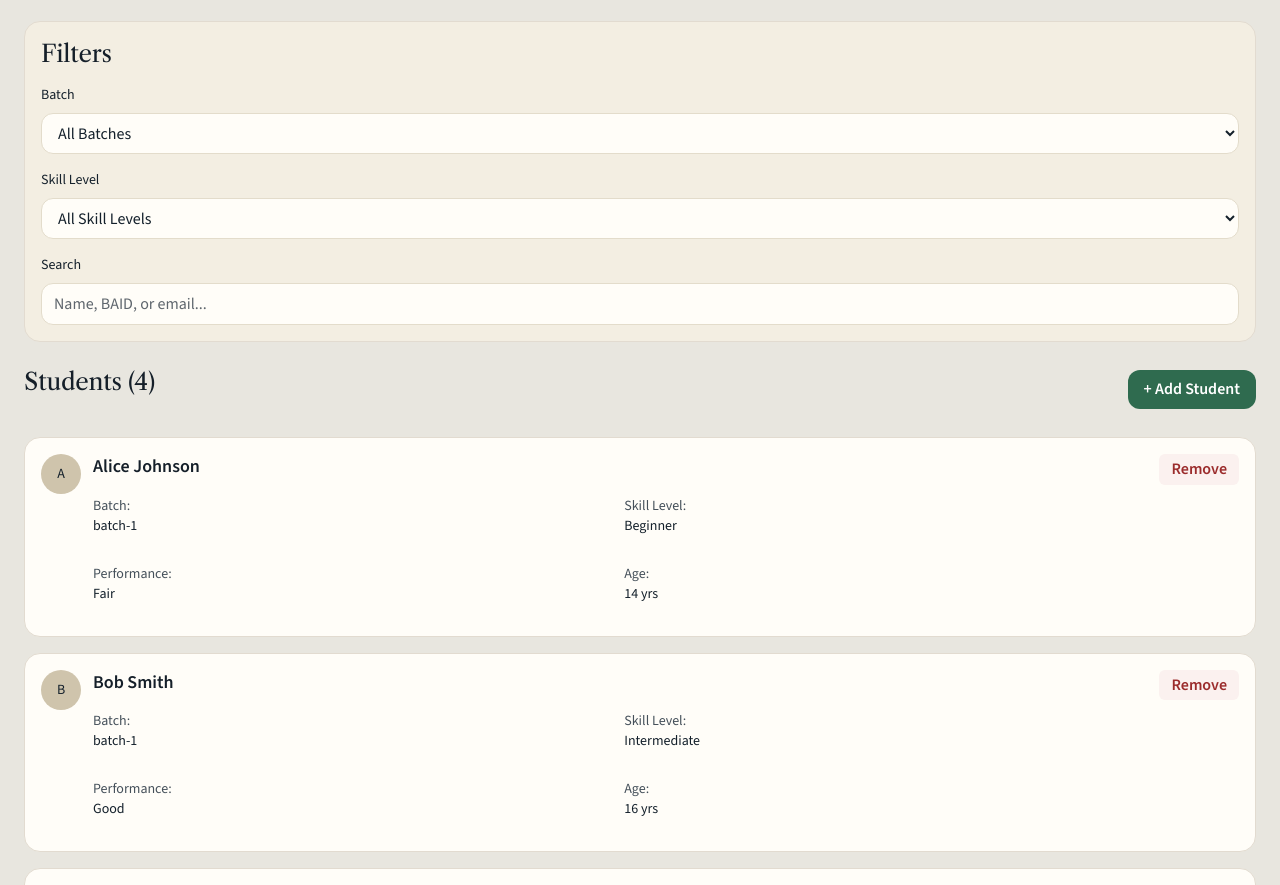
it: CoachStudentsTab › Filtering › clears filters when clicking clear button in no results state
Select "batch-1" in the dropdown named "Filter by batch": (640, 134) [41,113,1239,154]
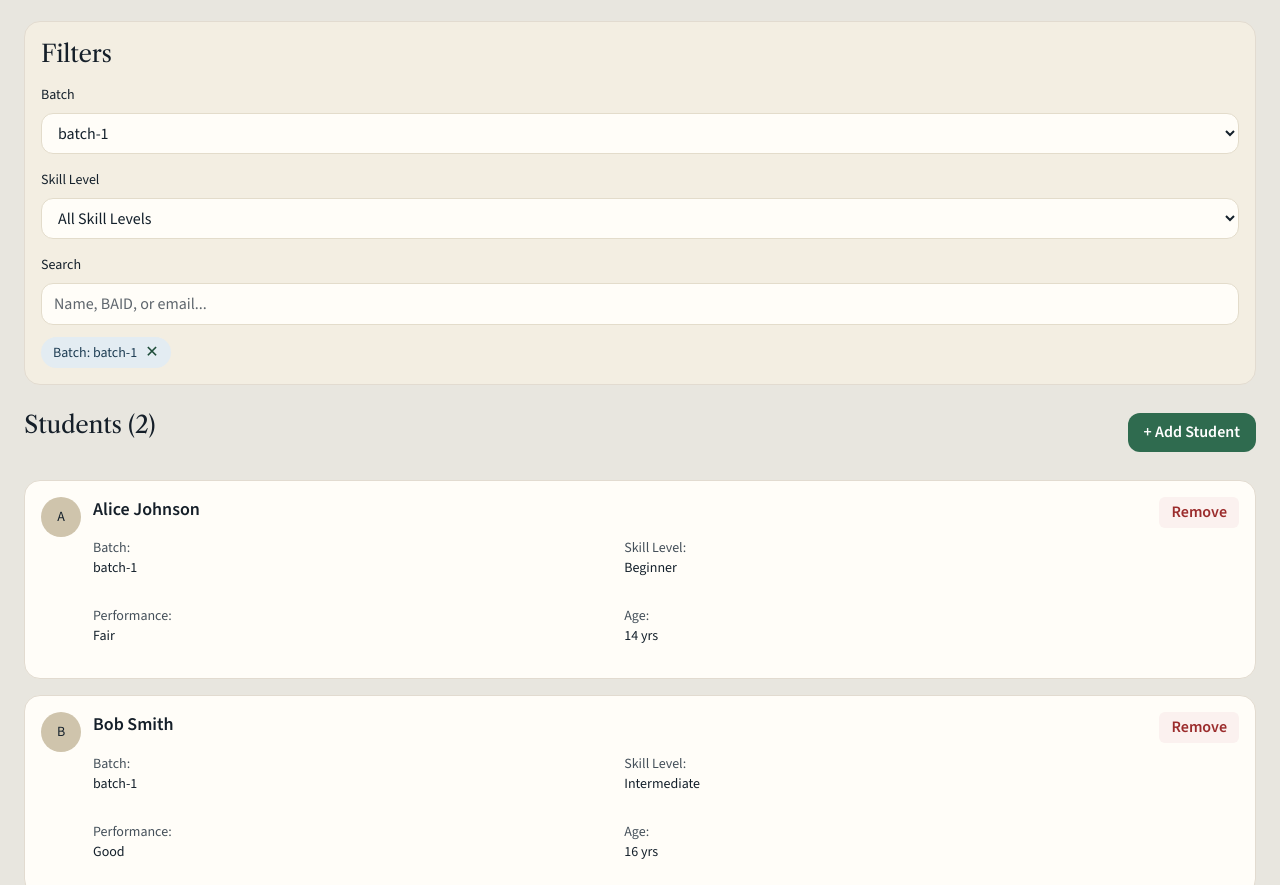
Select "Advanced" in the dropdown named "Filter by skill level": (640, 219) [41,198,1239,239]
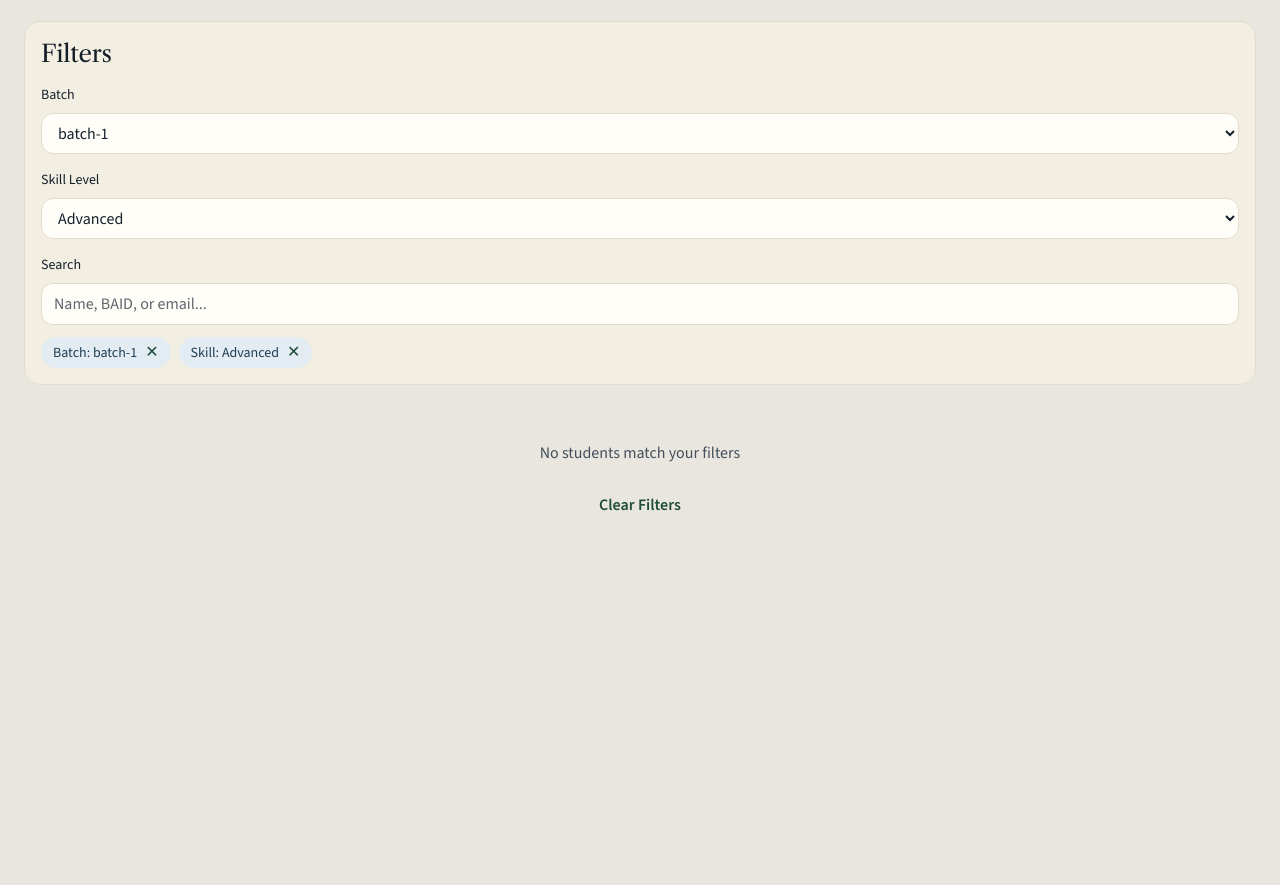
Expected: the text "No students match your filters" is shown, [540,442,740,463]
Click the button "Clear Filters": click(640, 505) [599,493,681,517]
(page scrolled)
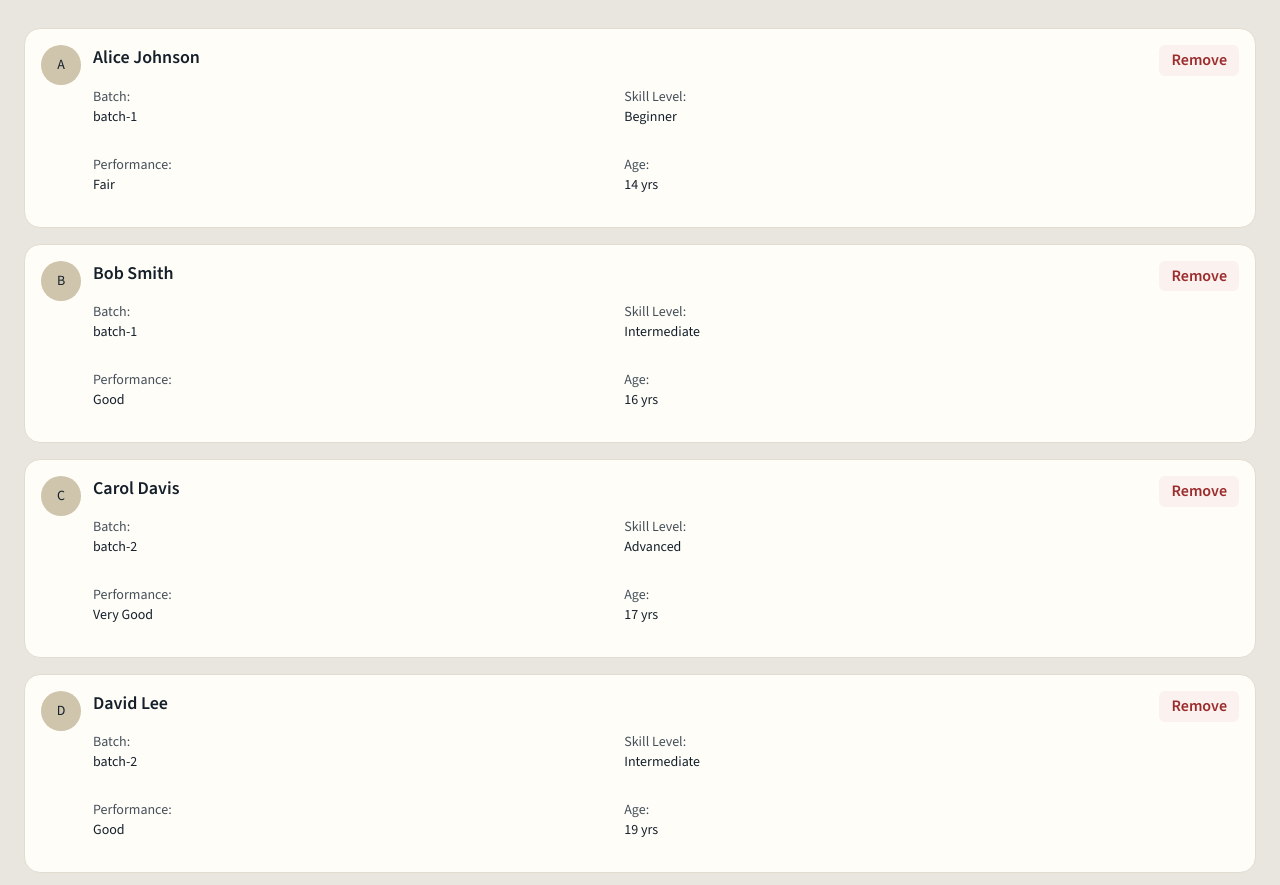
Expected: the heading "Alice Johnson" is shown, [93,45,200,69]
Expected: the heading "Bob Smith" is shown, [93,261,174,285]
Expected: the heading "Carol Davis" is shown, [93,476,180,500]
